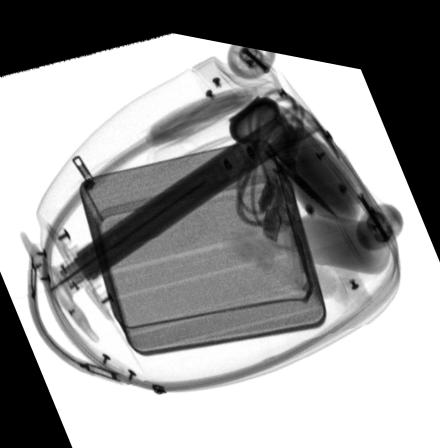Scissors: (251, 111, 340, 209)
